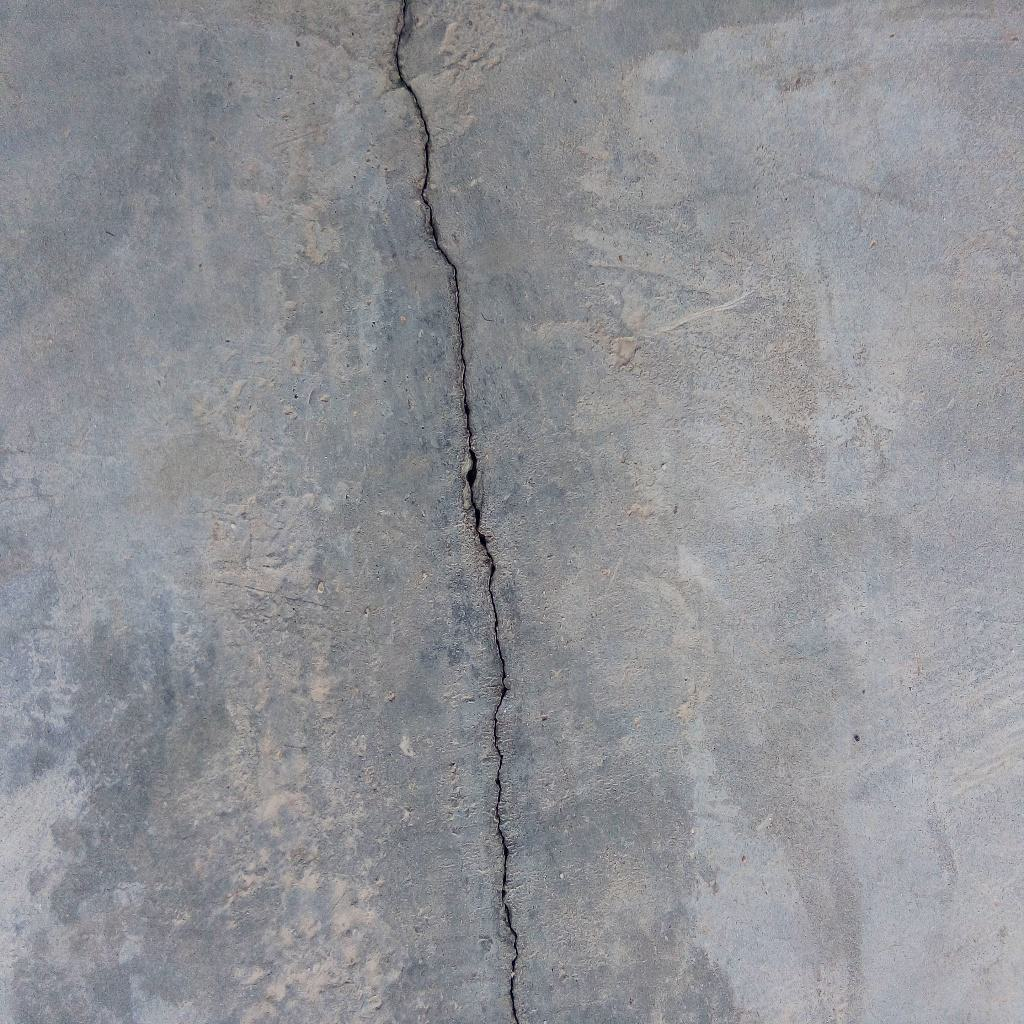Crack: (392, 1, 522, 1024)
